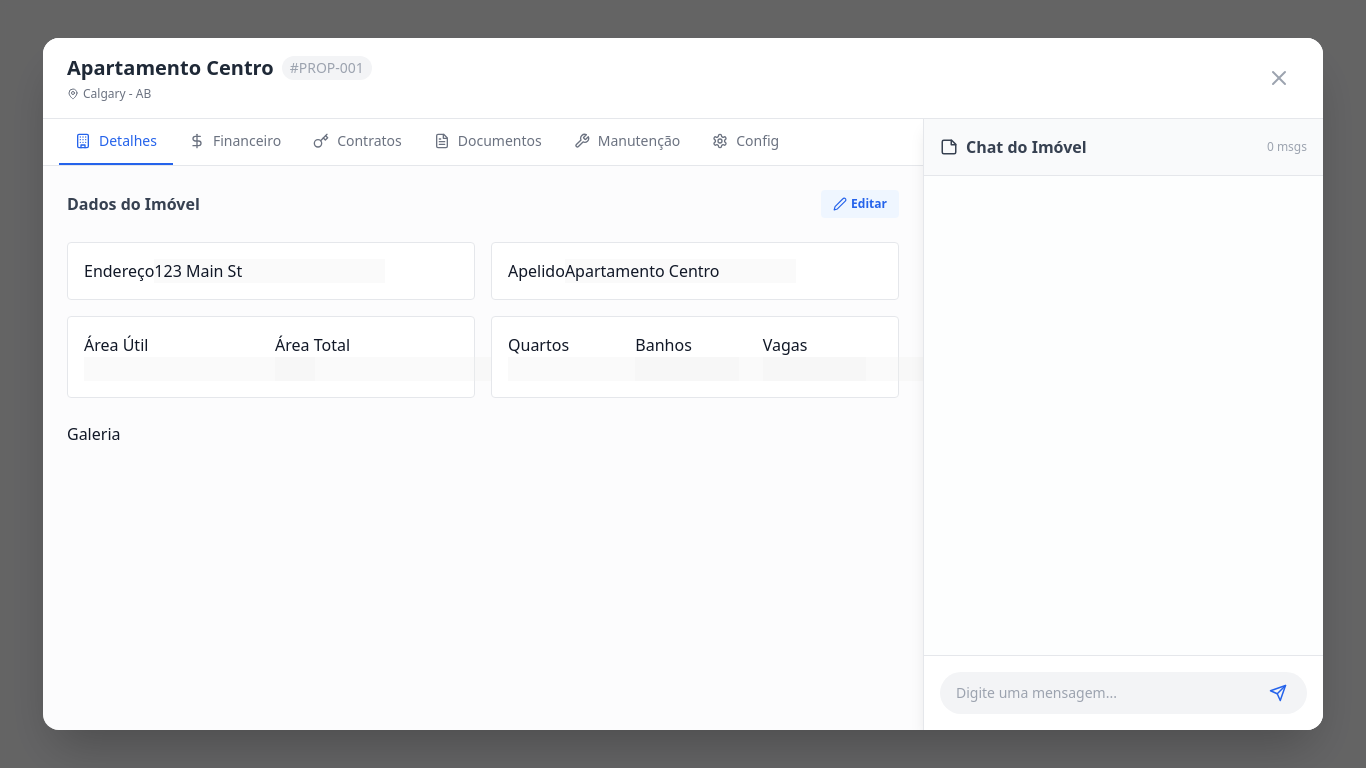
Test: PropertyDetailsModal › adds a note using the new api contract and refreshes the property
Step 1. Type "Nova observação" into the field with placeholder "Digite uma mensagem..." → [1106, 693], box [956,683,1257,703]
Then press Enter
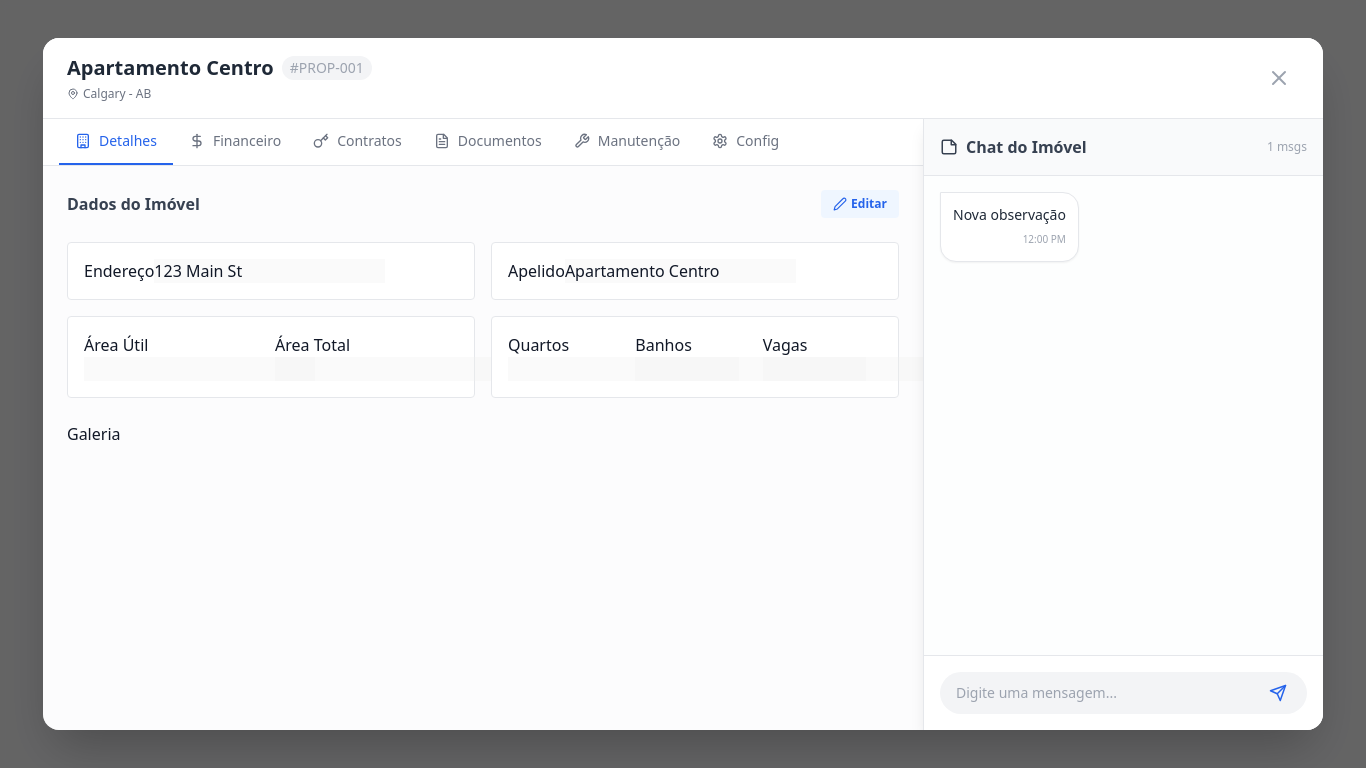
Expected: the text "Nova observação" is shown, [953,205,1066,225]
